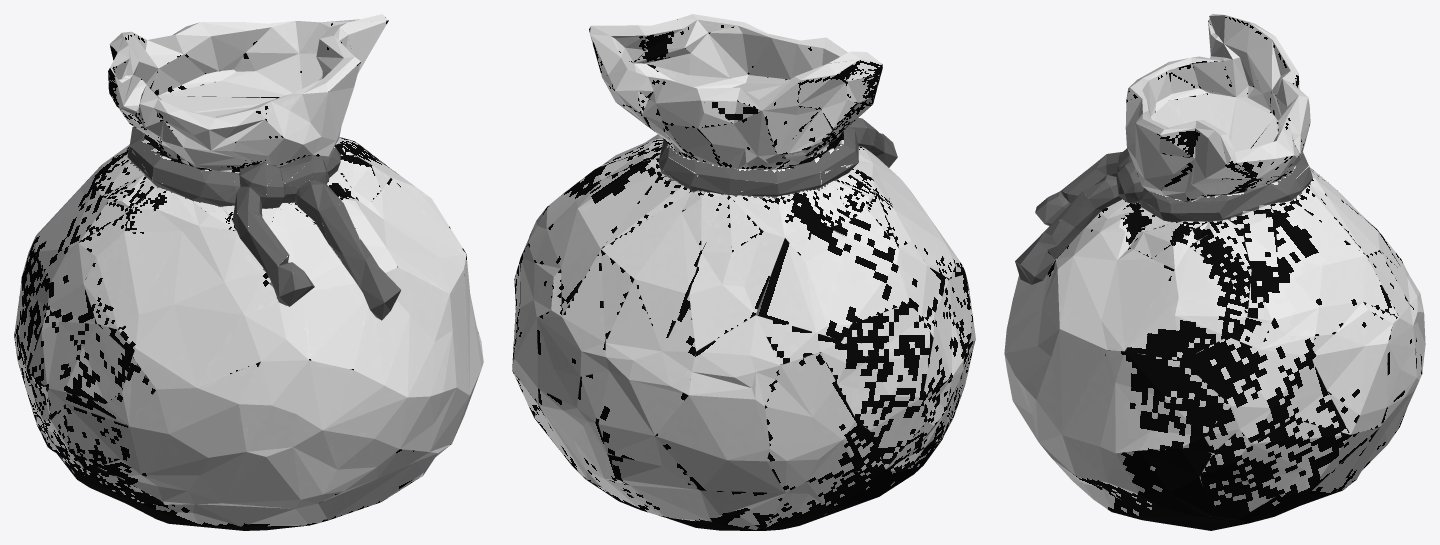
3 views of the same model, side by side, from view 1: azimuth 30°, elevation 25°; view 2: azimuth 150°, elevation 25°; view 3: azimuth 270°, elevation 25° (orthographic). The views are drawn at different scales.
Parts seen in each view (by area): view 1: OBJ080; view 2: OBJ080; view 3: OBJ080.
Part boxes in pixels (bbox=[...]): OBJ080: bbox=[14, 14, 483, 530]; OBJ080: bbox=[512, 14, 975, 530]; OBJ080: bbox=[1004, 14, 1425, 530].
Size of the model in its own units: 0.2669 by 0.2923 by 0.2611.
Materials: 1 (1 with a texture image).
